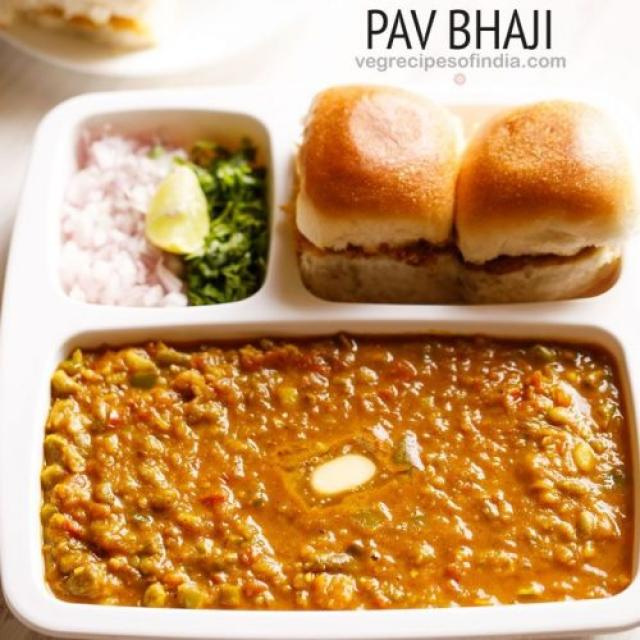pav_bhaji: (52, 73, 638, 623)
